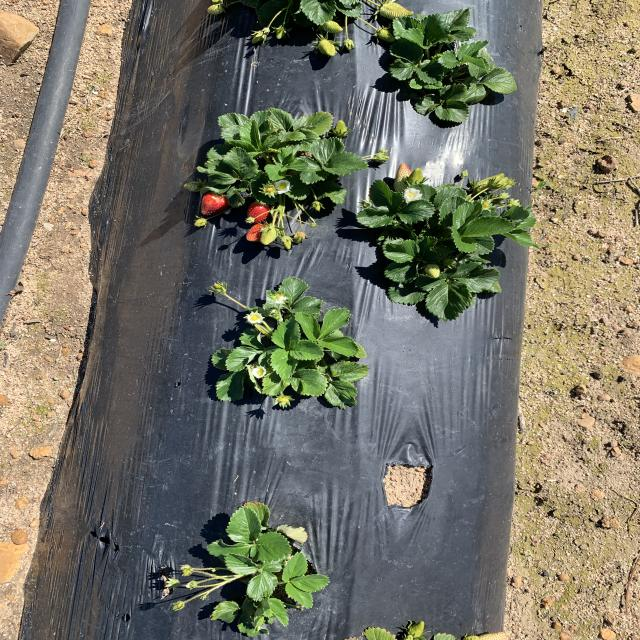unripe: (201, 189, 229, 215), (246, 200, 271, 223), (246, 224, 270, 242)
